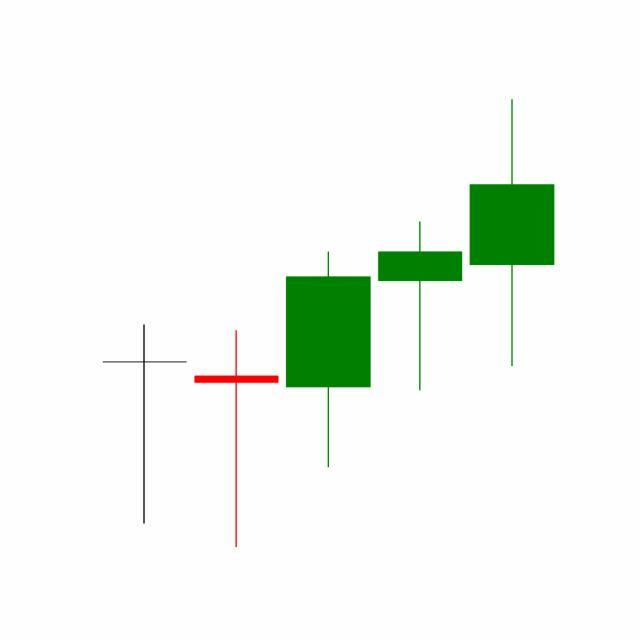Three Outside Up-Down: (190, 218, 467, 549)
